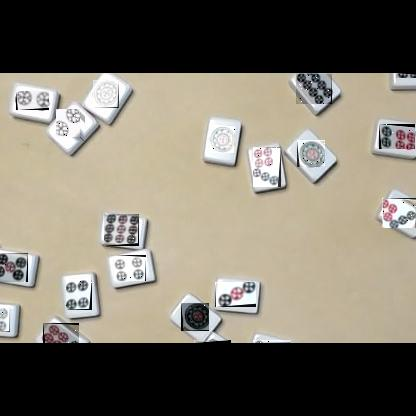1p: (181, 303, 209, 331), (297, 140, 325, 167), (93, 80, 119, 108), (209, 125, 235, 153)
2p: (57, 110, 85, 142), (16, 91, 49, 110)
3p: (215, 282, 256, 307)
4p: (114, 255, 146, 281), (66, 279, 92, 310), (396, 73, 416, 78)
5p: (0, 253, 28, 282), (0, 305, 10, 332)
6p: (379, 124, 415, 149), (43, 323, 79, 343)
7p: (253, 147, 281, 187), (382, 198, 416, 228)
8p: (296, 73, 332, 104), (253, 340, 291, 343)
9p: (104, 214, 139, 246), (194, 340, 231, 343)
